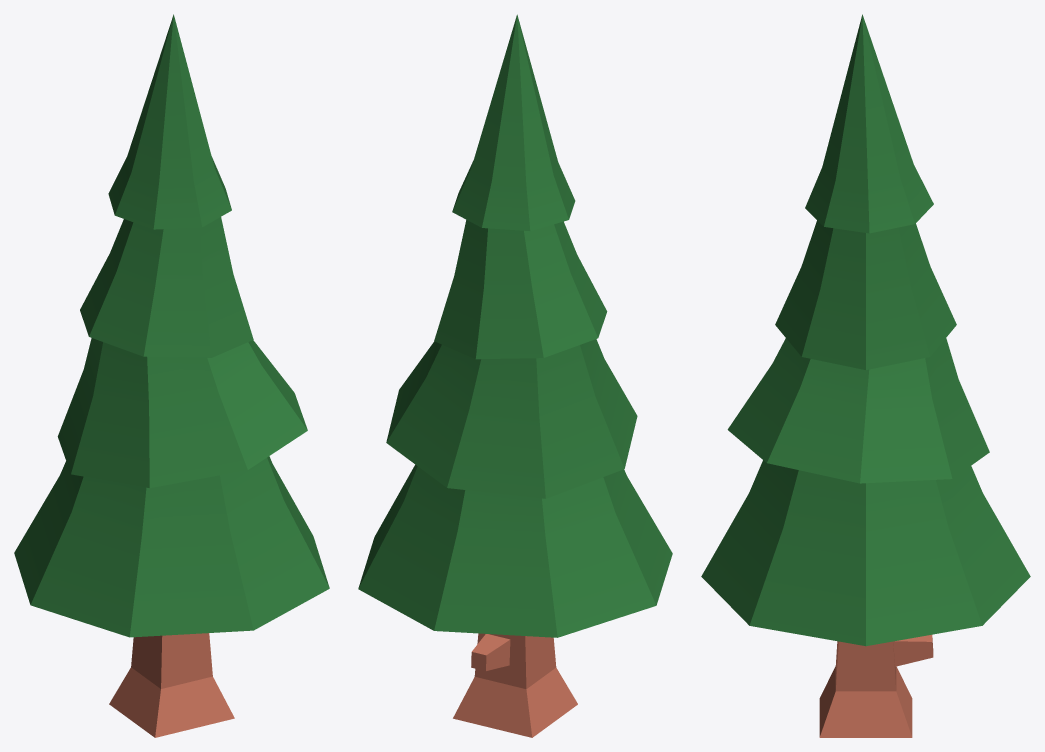
File: tree_pineRoundF.glb
The picture shows the model from 3 angles, left to right: view 1: azimuth 30°, elevation 25°; view 2: azimuth 150°, elevation 25°; view 3: azimuth 270°, elevation 25°; orthographic projection.
Parts seen in each view (by area): view 1: tree_pineRoundF; view 2: tree_pineRoundF; view 3: tree_pineRoundF.
Part boxes in pixels (box(x1,y1,x2,y2)): tree_pineRoundF: box(14, 14, 329, 737); tree_pineRoundF: box(358, 14, 672, 737); tree_pineRoundF: box(701, 14, 1030, 737).
Bounding box in the file's own units: 0.532 × 1.25 × 0.532.
